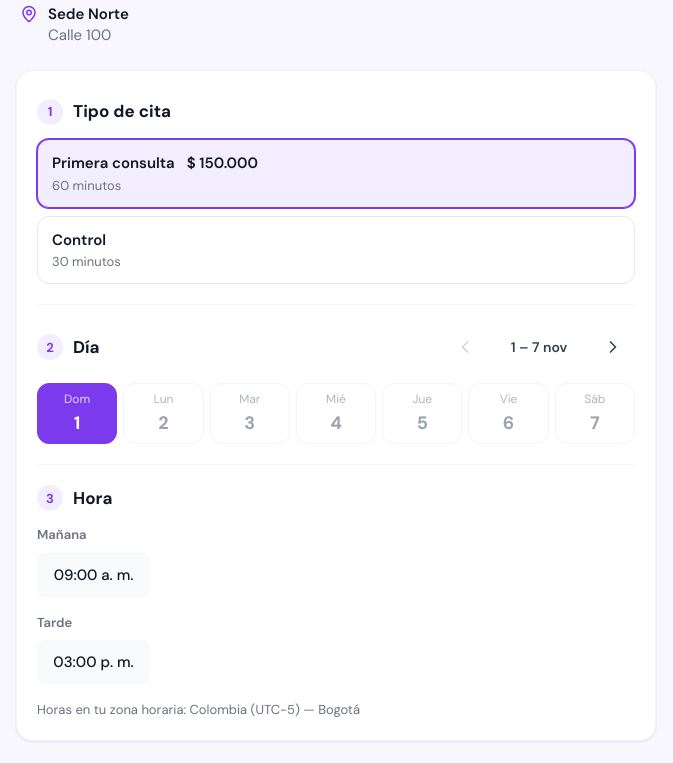
Test case: PublicBookingPage booking › lets the patient choose among several locations
The width and height of the screenshot is (673, 763).
(page scrolled)
Click the button "09:00 a. m.": (94, 575) [37,553,150,597]
(page scrolled)
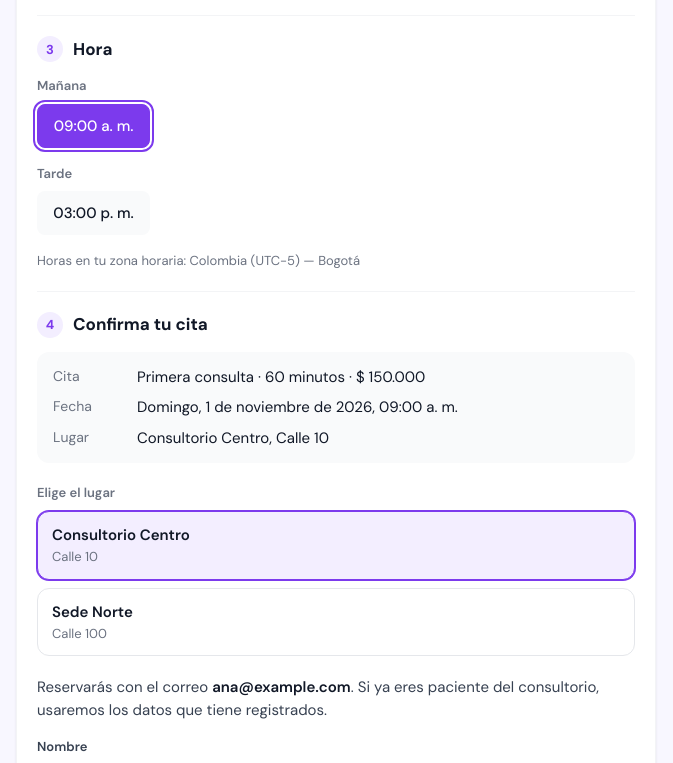
Click the button "Sede Norte Calle 100": (92, 612) [37,588,635,656]
(page scrolled)
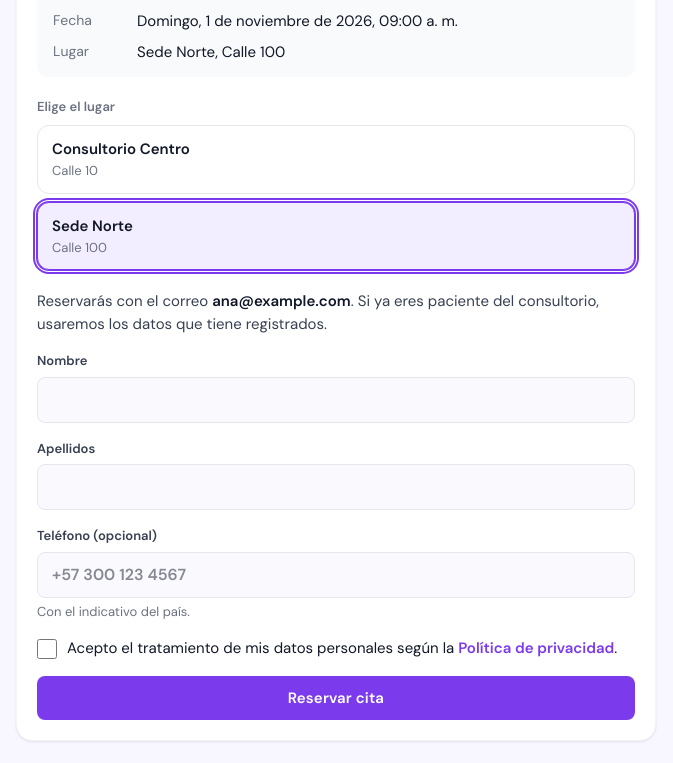
Result: the text "Sede Norte, Calle 100" is shown at [137,42,285,62]
In the field labelled "Nombre": (336, 400) [37,377,635,423], type "  Lucía "
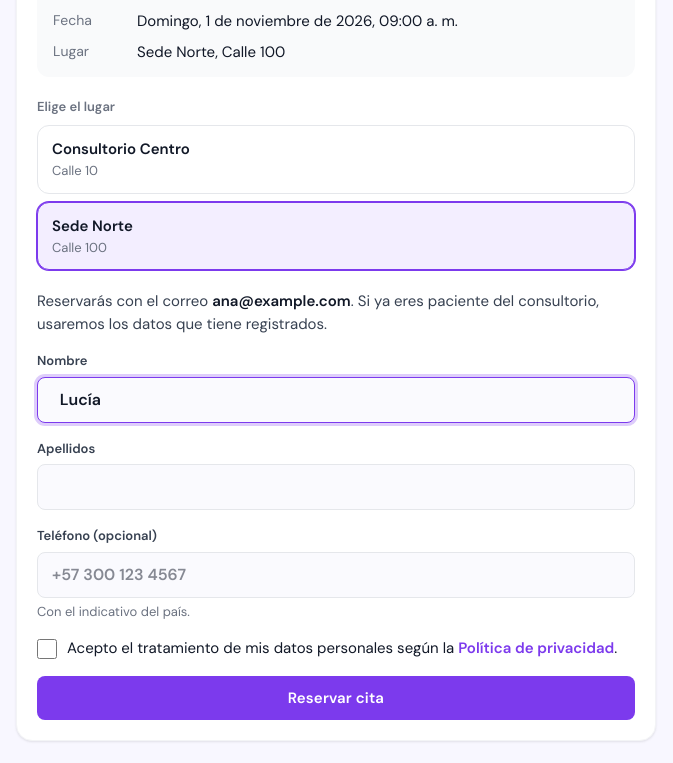
In the field labelled "Apellidos": (336, 487) [37,464,635,510], type "Rojas"
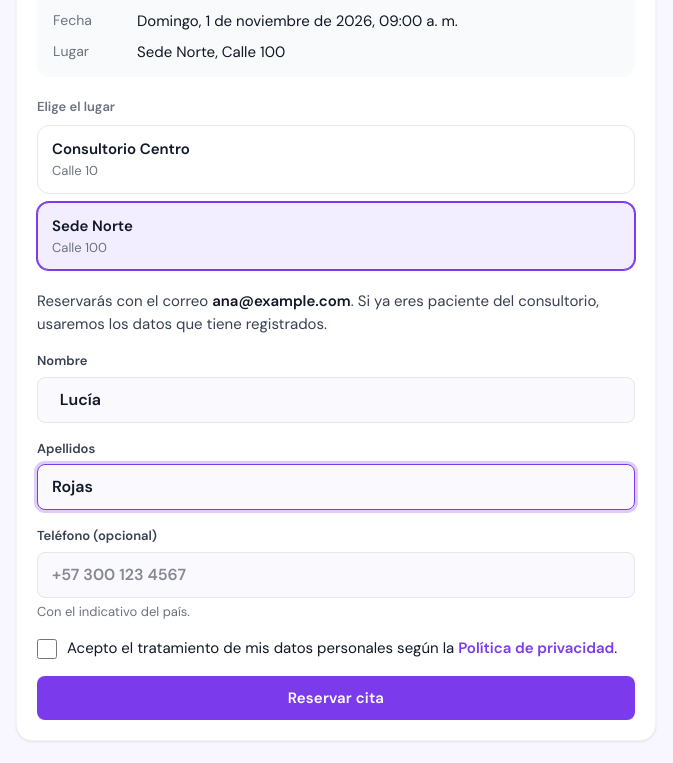
Click the checkbox: (47, 649) [37,639,57,659]
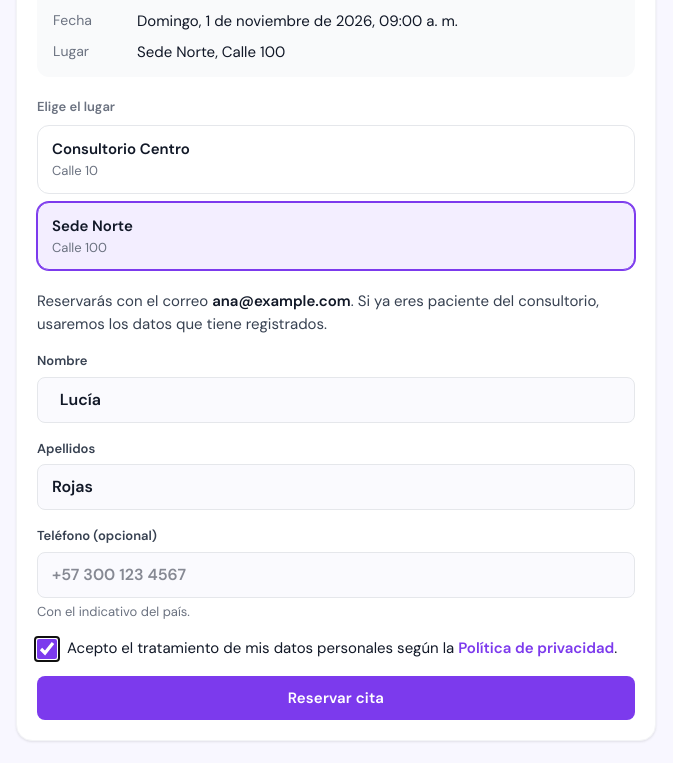
Click the button "Reservar cita": (336, 698) [37,676,635,720]
(page scrolled)
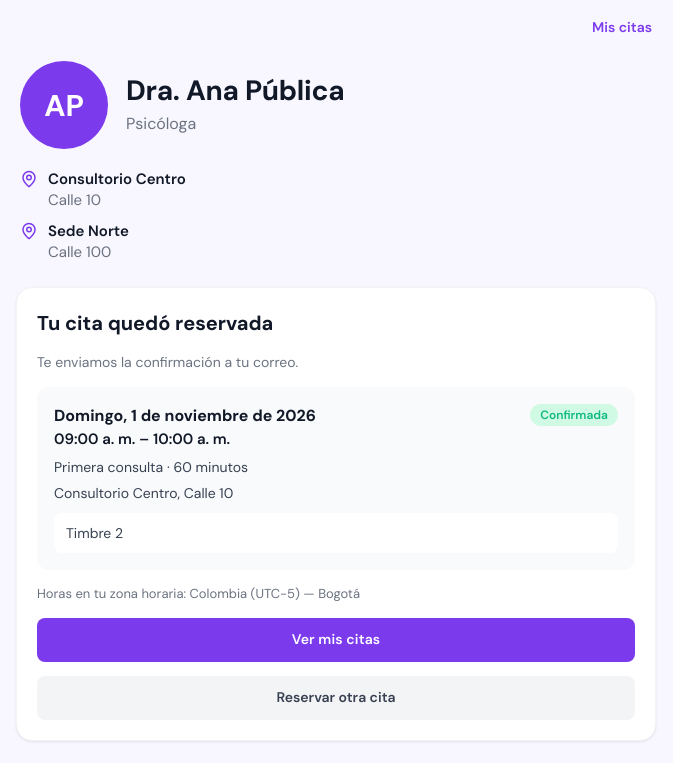
Result: the heading "Tu cita quedó reservada" is shown at [37,310,273,336]
